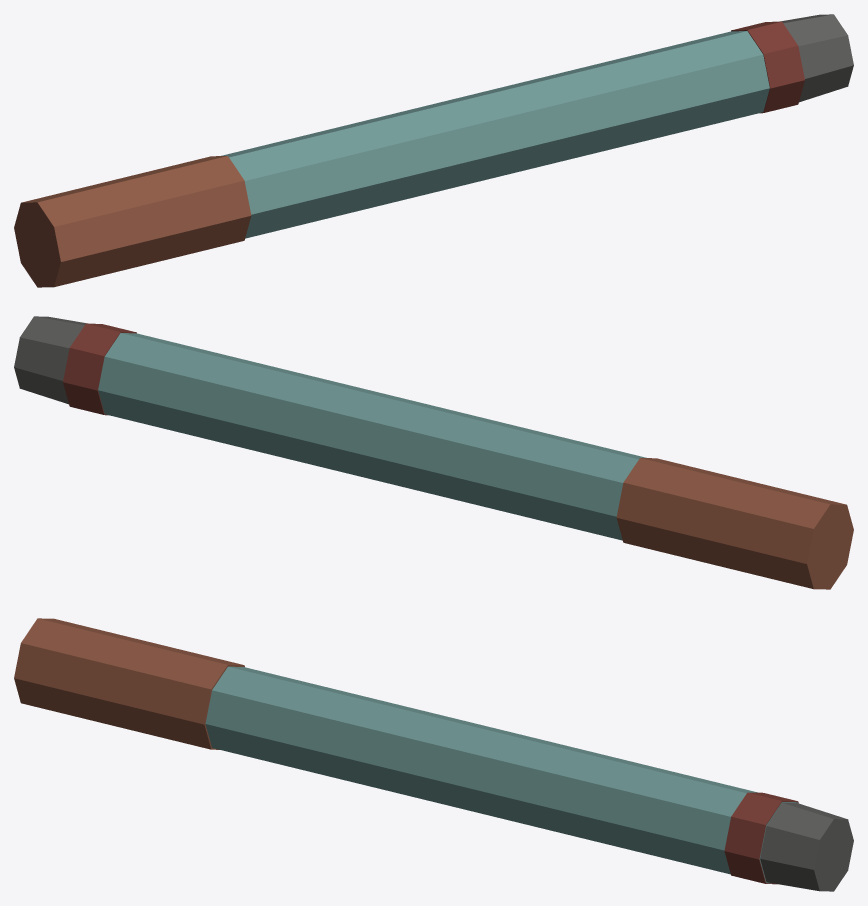
Rendered from tigara.glb.
3 renders of one model, top to bottom at view 1: azimuth 30°, elevation 25°; view 2: azimuth 150°, elevation 25°; view 3: azimuth 330°, elevation 25°, orthographic.
Visible parts, largest first — view 1: Tigara, Scrum, Jar; view 2: Tigara, Scrum, Jar; view 3: Tigara, Scrum, Jar.
Boxes of the visible parts, box(x1,y1,x2,y2) form: Tigara: box(14, 31, 769, 287); Scrum: box(780, 14, 853, 102); Jar: box(731, 21, 804, 113); Tigara: box(98, 333, 853, 589); Scrum: box(14, 316, 87, 404); Jar: box(63, 323, 136, 415); Tigara: box(14, 618, 757, 874); Scrum: box(760, 802, 853, 891); Jar: box(724, 792, 798, 884).
Size of the model in its own units: 0.092 by 0.0094 by 0.0094.
